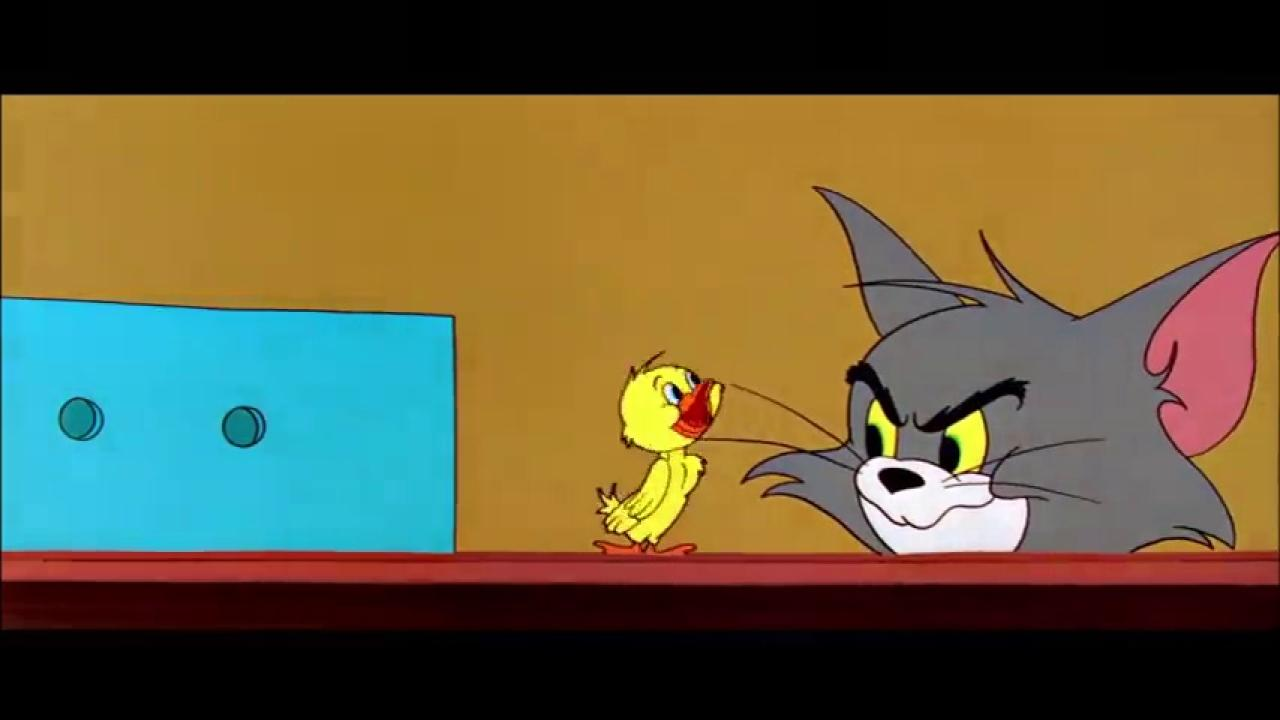Tom: (740, 182, 1280, 553)
